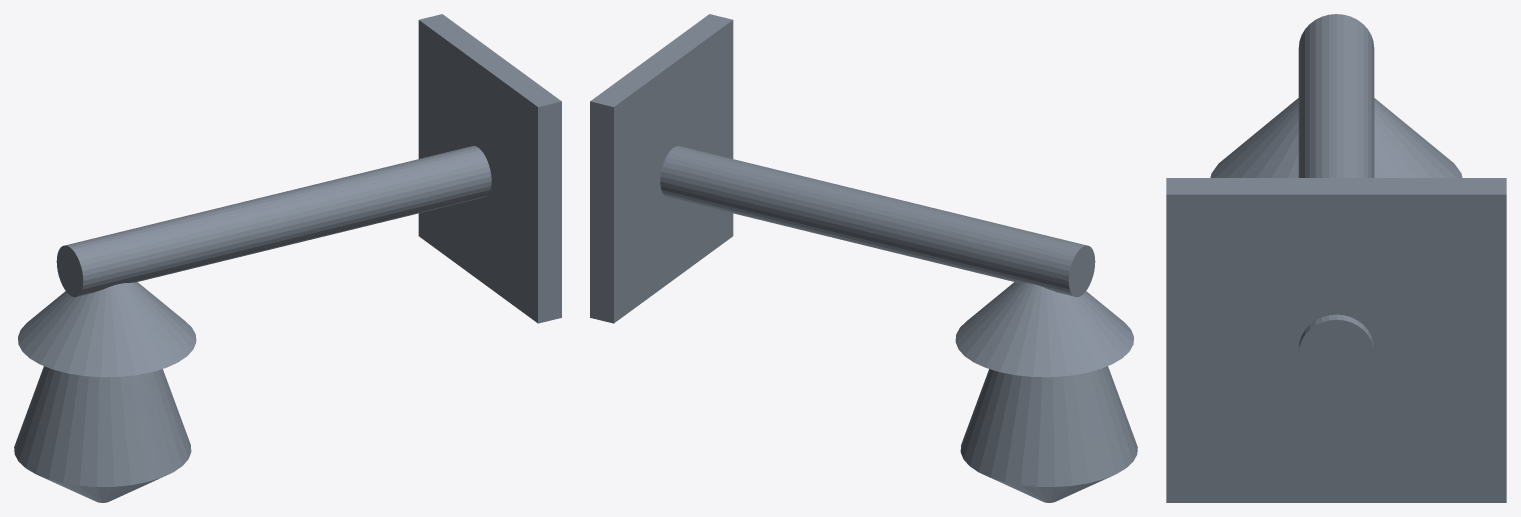
File: WallLight.glb
3 views of the same model, side by side, from view 1: azimuth 30°, elevation 25°; view 2: azimuth 150°, elevation 25°; view 3: azimuth 270°, elevation 25° (orthographic). The views are drawn at different scales.
Parts seen in each view (by area): view 1: Cylinder; view 2: Cylinder; view 3: Cylinder.
Boxes of the visible parts, x1,y1,x2,y2 form: Cylinder: (14,14,561,502); Cylinder: (590,14,1137,502); Cylinder: (1166,14,1506,502).
Size of the model in its own units: 1.2 by 0.8188 by 0.5149.
Materials: 1 (1 with a texture image).
